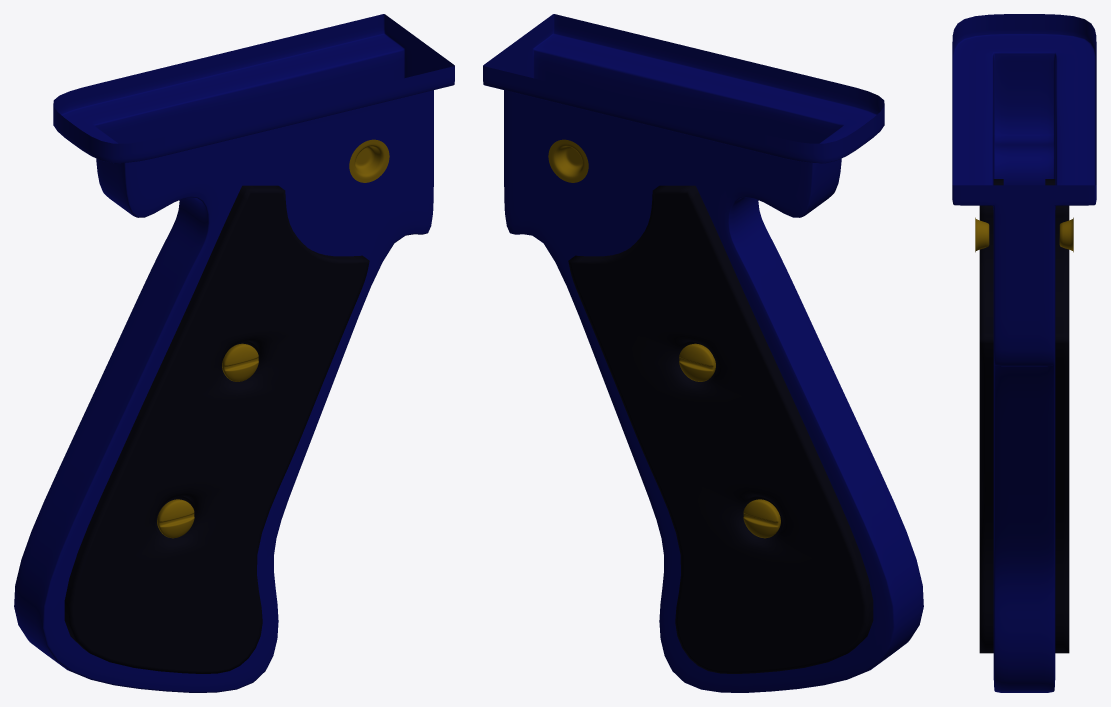
Rendered from grip_06.fbx.
The picture shows the model from 3 angles, left to right: view 1: azimuth 30°, elevation 25°; view 2: azimuth 150°, elevation 25°; view 3: azimuth 270°, elevation 25°; orthographic projection.
Visible parts, largest first — view 1: Plane.113; view 2: Plane.113; view 3: Plane.113.
Part boxes in pixels (x1,y1,x2,y2): Plane.113: (14, 14, 454, 692); Plane.113: (483, 14, 923, 692); Plane.113: (952, 14, 1096, 692).
Size of the model in its own units: 30.52 by 44.04 by 9.59.
